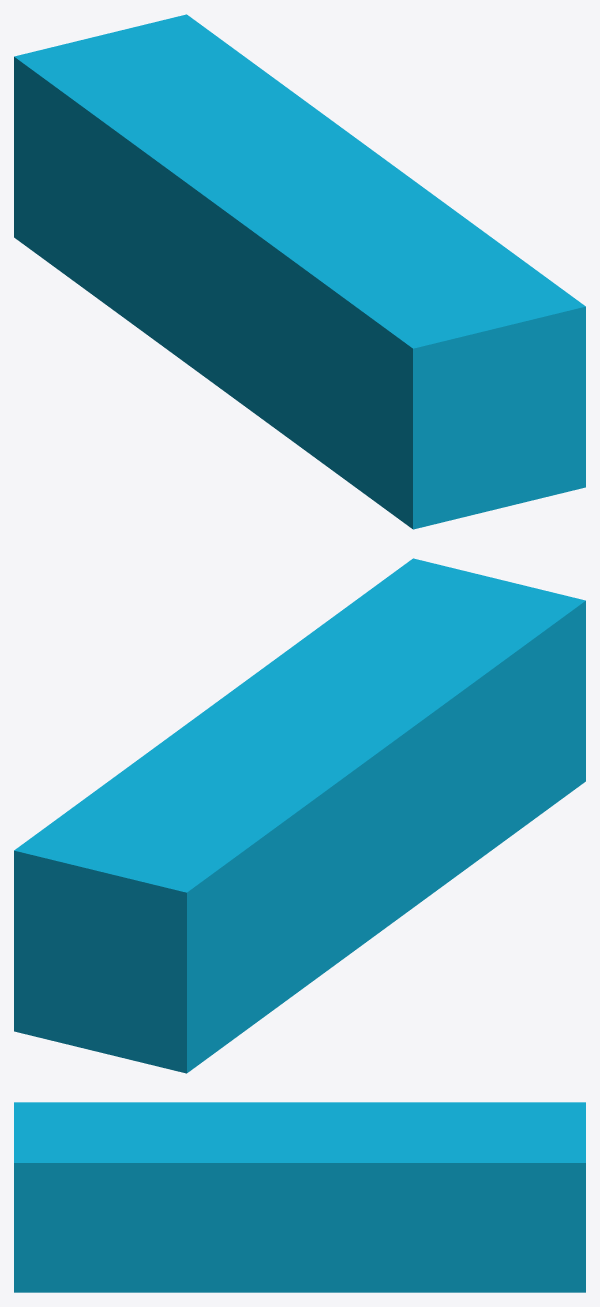
File: Long.fbx
3 renders of one model, top to bottom at view 1: azimuth 30°, elevation 25°; view 2: azimuth 150°, elevation 25°; view 3: azimuth 270°, elevation 25°, orthographic. The views are drawn at different scales.
Parts seen in each view (by area): view 1: Long; view 2: Long; view 3: Long.
Part boxes in pixels (x1,y1,x2,y2): Long: (14, 14, 585, 529); Long: (14, 558, 585, 1073); Long: (14, 1102, 585, 1292).
Size of the model in its own units: 200 by 200 by 800.
